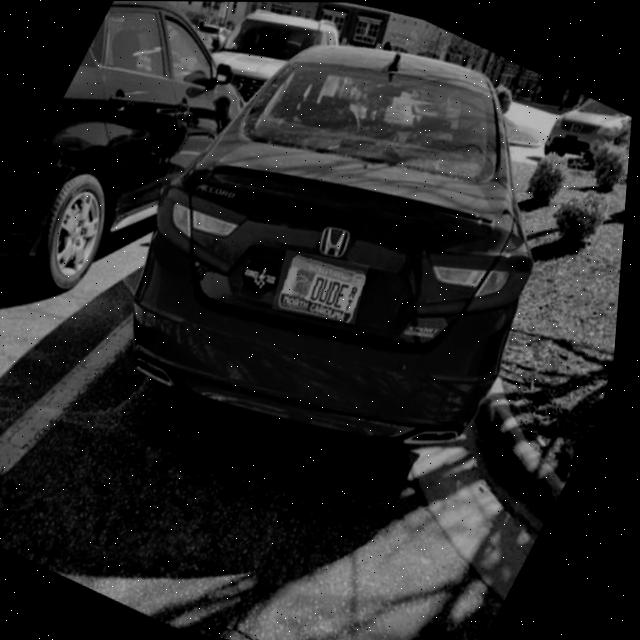LicensePlate: (278, 250, 371, 322)
